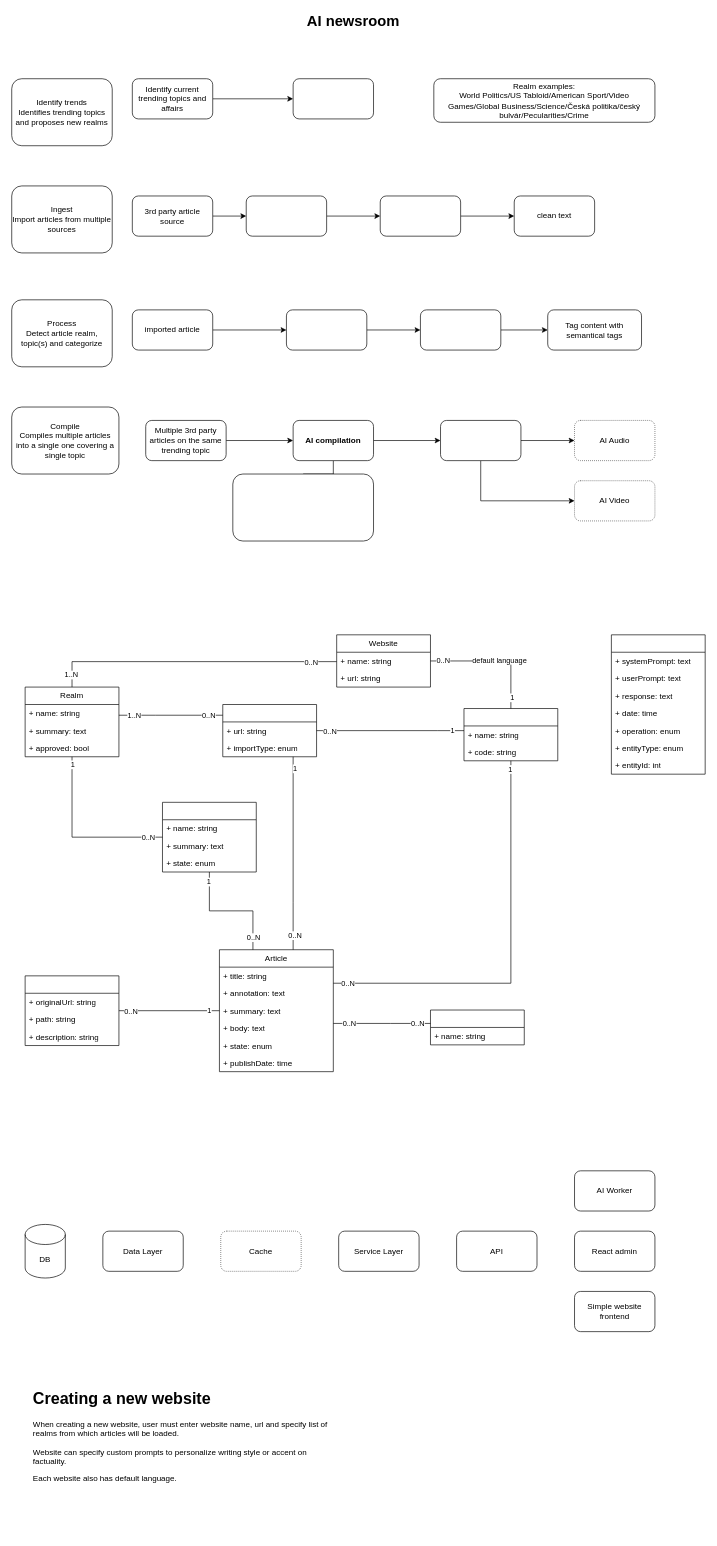
This 717x1546 diagram has some shape labels left out. Each missing label, with the box of its shape:
AI Article: (440, 420, 521, 461)
AI Log: (611, 634, 705, 774)
Article Source: (222, 704, 317, 757)
Assign topic to realm(s): (292, 78, 374, 119)
create summary: (286, 309, 367, 350)
detect topics: (420, 309, 501, 350)
extract images: (380, 195, 461, 236)
Flavored (different styles) Highly localized or niche-topic focus: (232, 473, 374, 541)
Image: (24, 975, 119, 1046)
import top articles: (246, 195, 327, 236)
Language: (463, 708, 558, 761)
Tag: (430, 1009, 524, 1045)
Topic: (162, 802, 256, 872)
